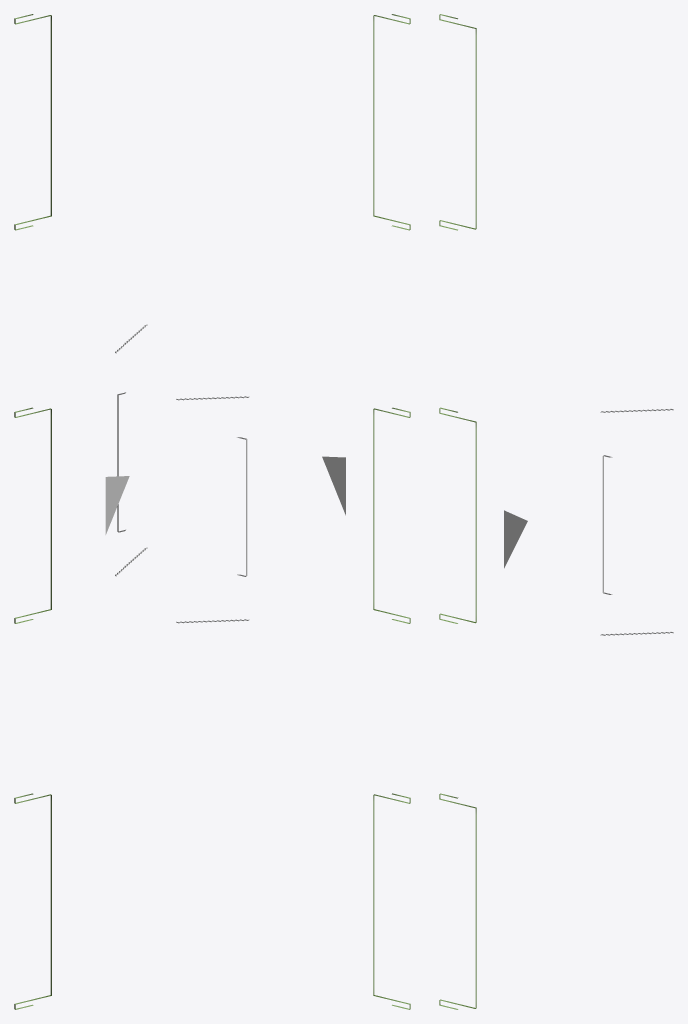
The model's file is SM_000544_merge_wall01_1.fbx.
3 views of the same model, side by side, from view 1: azimuth 30°, elevation 25°; view 2: azimuth 150°, elevation 25°; view 3: azimuth 330°, elevation 25° (orthographic).
Visible parts, largest first — view 1: SM_000544.001; view 2: SM_000544.001; view 3: SM_000544.001.
Part boxes in pixels (x1,y1,x2,y2): SM_000544.001: [14, 14, 147, 1009]; SM_000544.001: [176, 14, 410, 1009]; SM_000544.001: [439, 14, 673, 1009].
Size of the model in its own units: 18.15 by 93.78 by 10.97.
